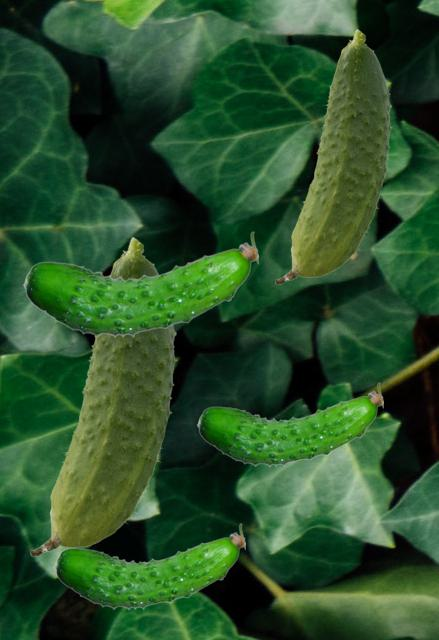cucumber: (30, 237, 176, 555), (275, 29, 391, 283), (22, 231, 257, 337), (53, 523, 244, 609), (196, 382, 382, 466)
